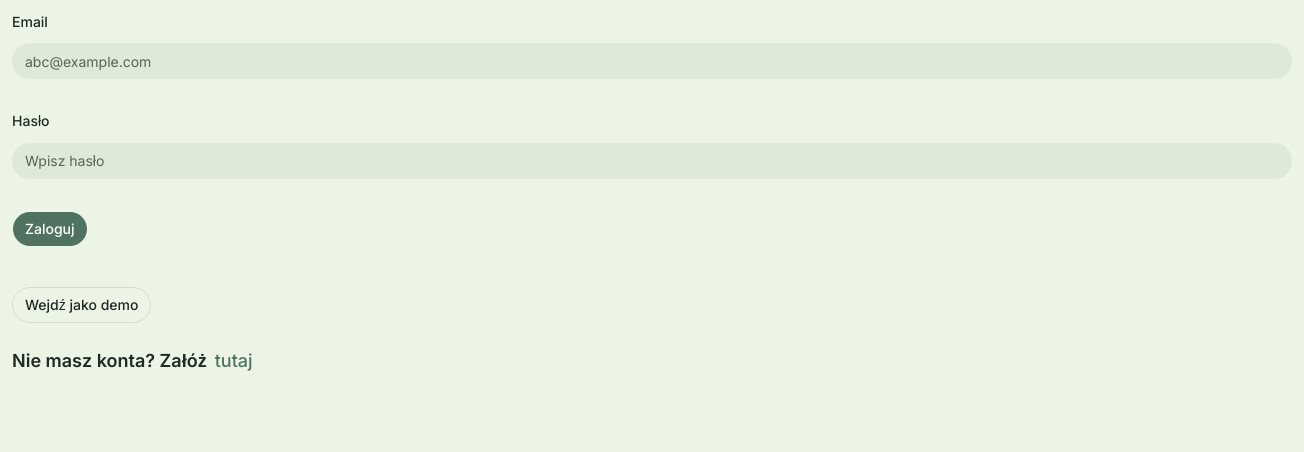
Test: LoginForm › shows validation errors when the form is empty
Click the button "Zaloguj" at [50, 228], box [12,210,88,246]
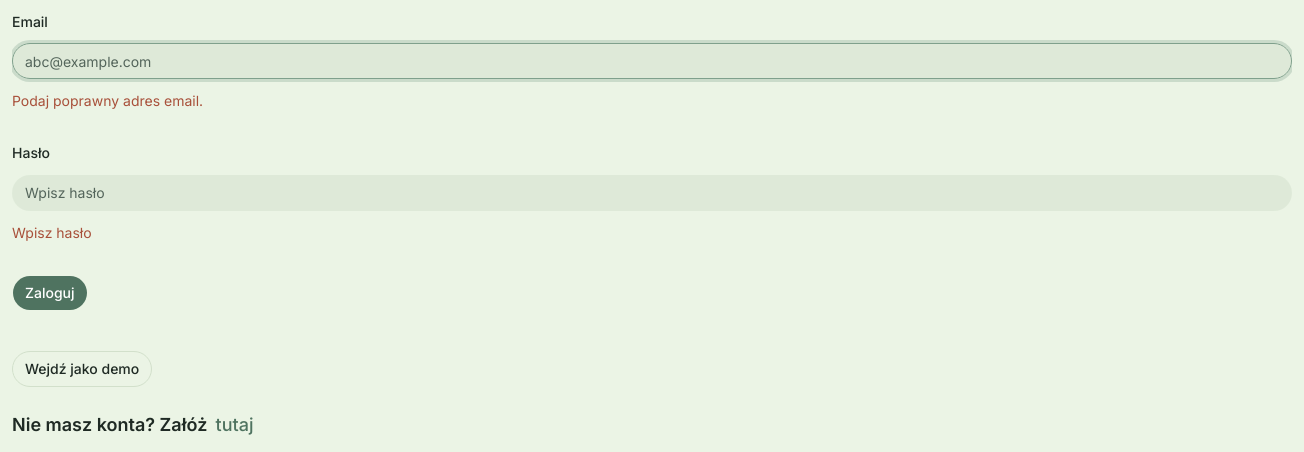
Expected: the text "Wpisz hasło" is shown, [12,224,92,240]
Expected: the text "Podaj poprawny adres email." is shown, [12,92,203,109]
